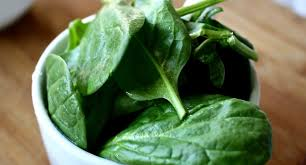spinach: (77, 41, 215, 143)
